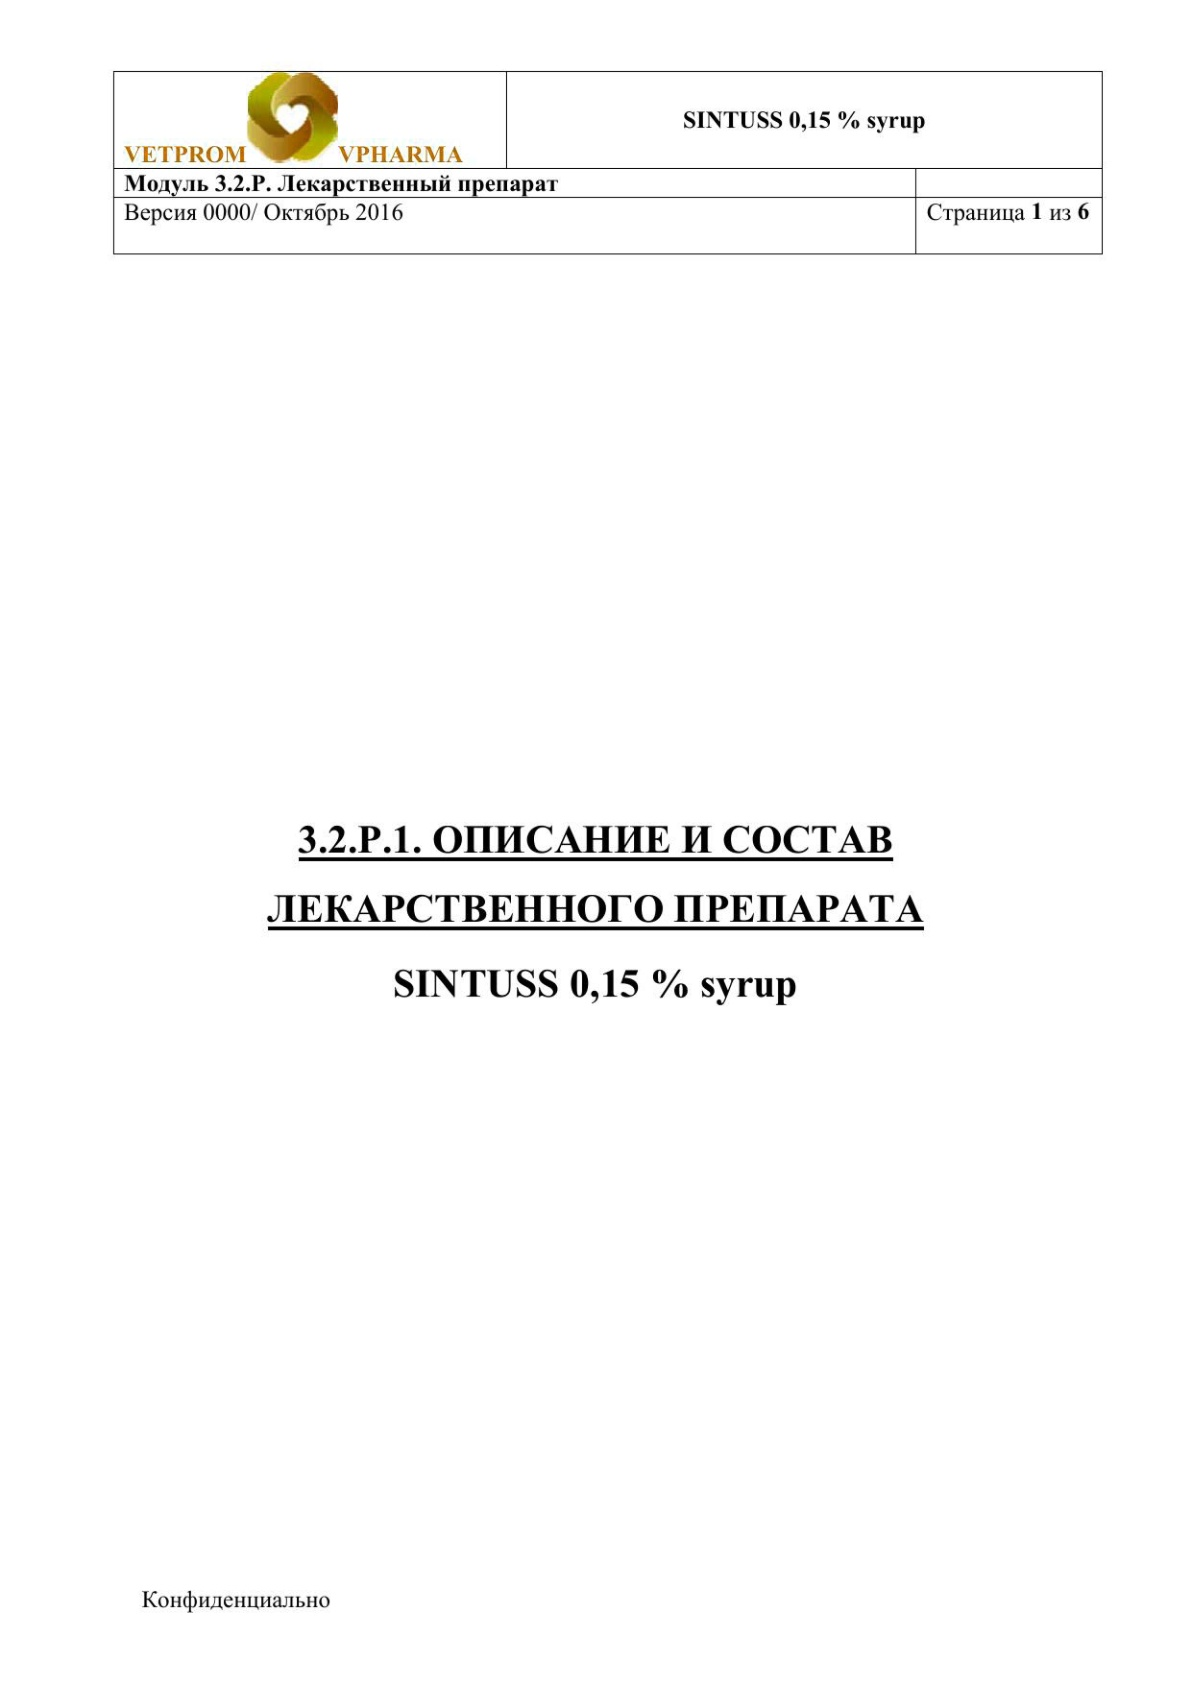merged_cells: (112, 71, 1103, 255)
